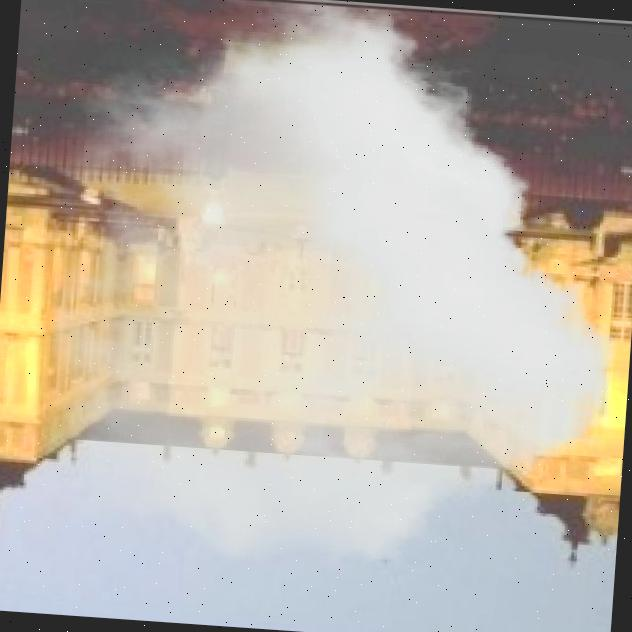smoke: (39, 0, 632, 585)
